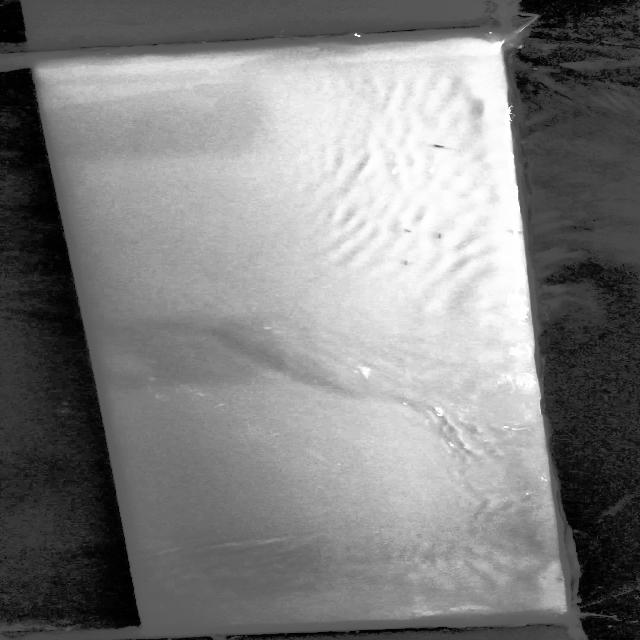shrimp: (421, 137, 457, 152), (395, 256, 422, 266), (404, 228, 427, 237), (432, 231, 447, 242)
